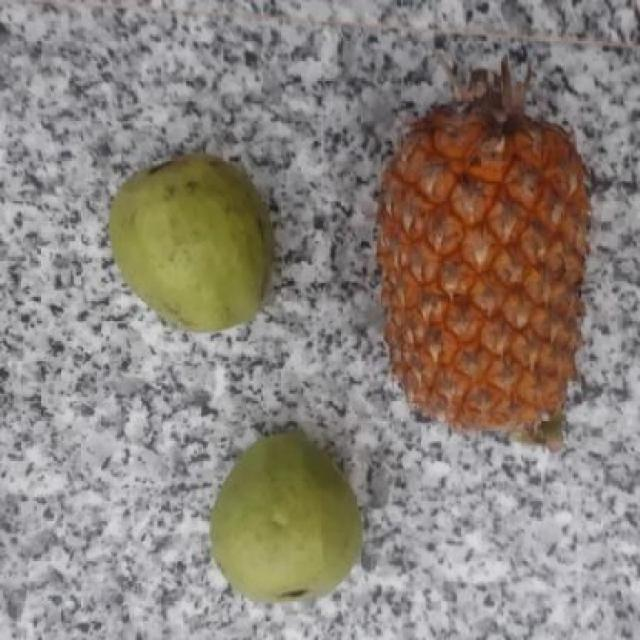guava: (110, 154, 285, 334), (207, 438, 370, 600)
pineapple: (380, 80, 592, 454)
